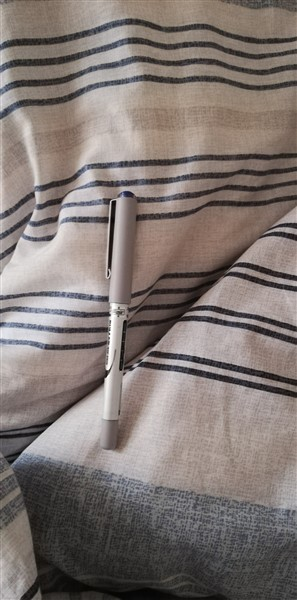pilot kalem: (101, 189, 142, 453)
